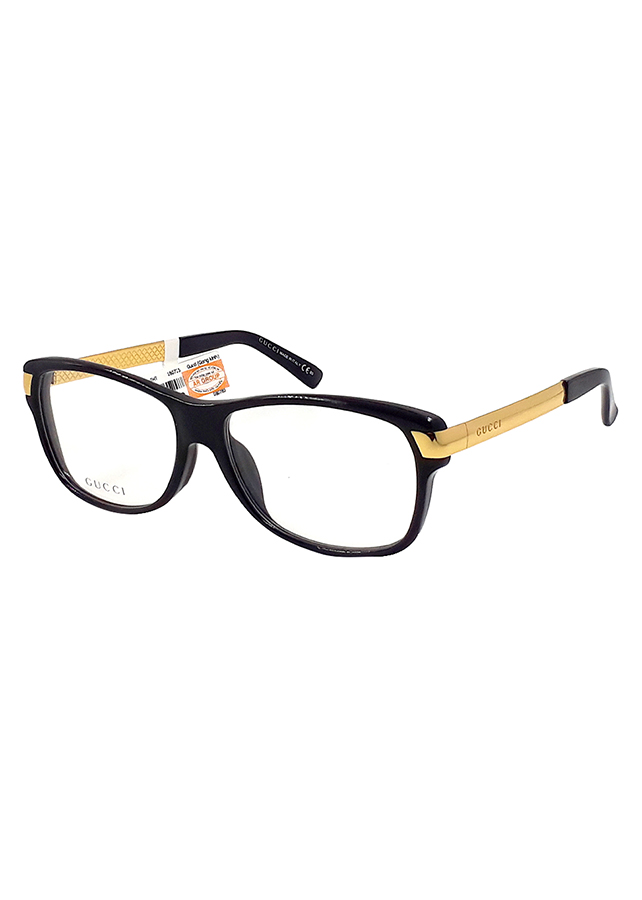Gucci: (77, 466, 132, 503), (469, 415, 509, 443), (252, 332, 285, 356)
